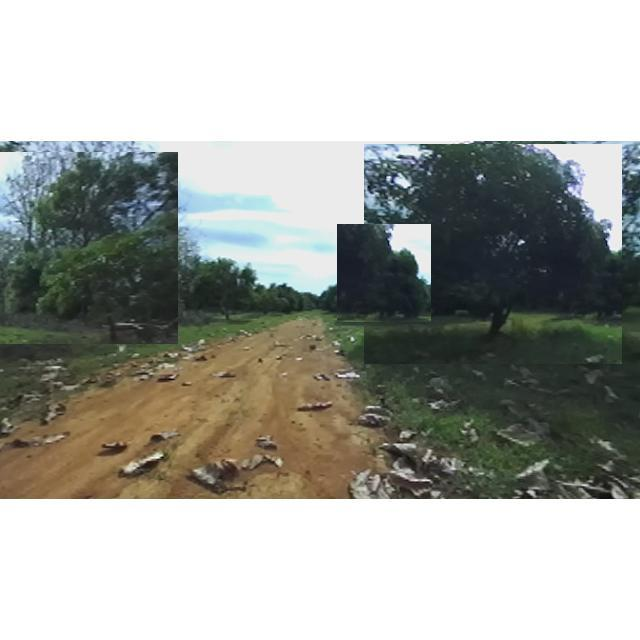direk: (363, 144, 622, 364), (0, 152, 178, 344), (337, 224, 431, 322), (190, 254, 262, 314), (248, 278, 292, 314)
